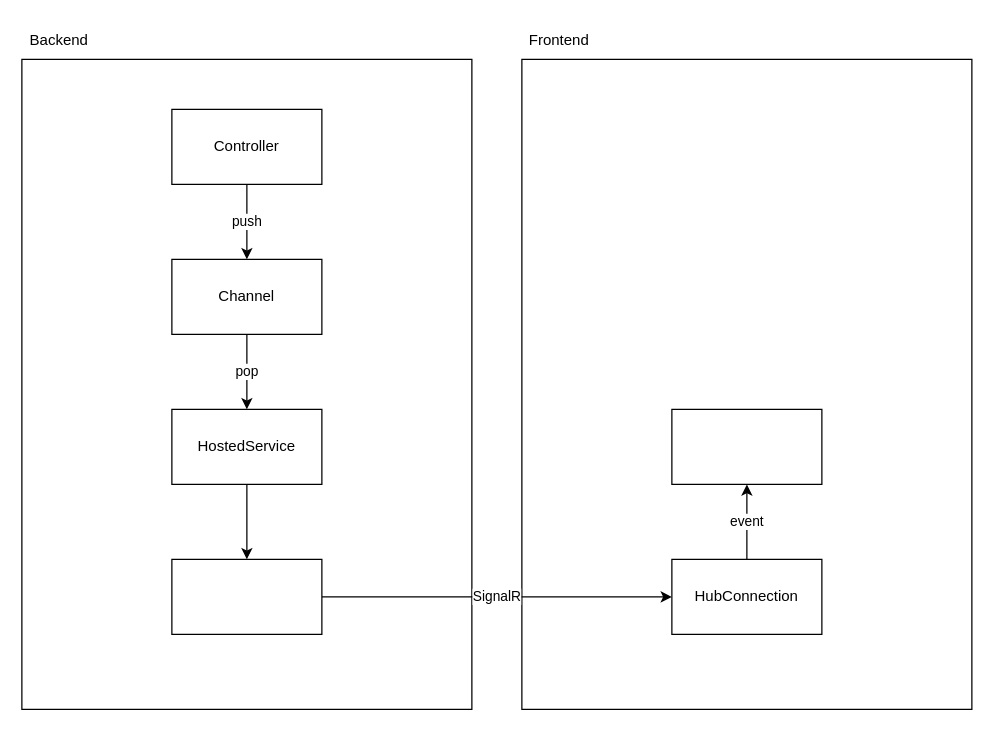
Some shapes in this 994 by 731 pixel diagram are drawn without their labels. Each missing label, with the centre of its shape:
"Blazor Component" belongs at (746,446).
"Hub" belongs at (246,596).
